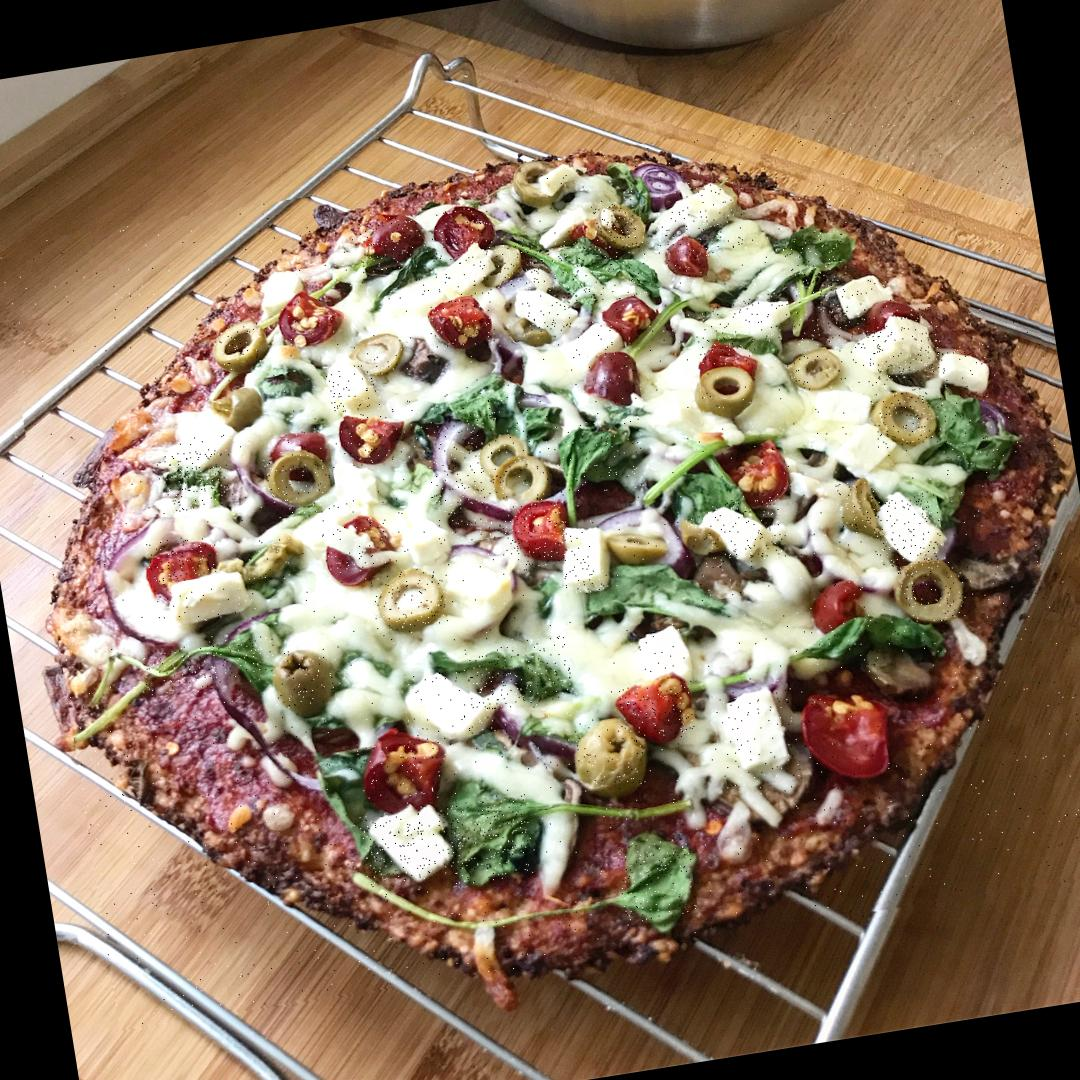Arugula: (515, 229, 653, 315), (799, 603, 948, 677), (407, 381, 536, 458), (579, 556, 704, 634), (780, 228, 860, 348), (543, 412, 650, 501), (142, 632, 280, 697), (930, 388, 1008, 477), (155, 444, 236, 514)
Basil: (440, 793, 538, 888), (463, 634, 575, 714), (614, 834, 698, 926)
Chicken: (712, 684, 802, 791), (647, 174, 747, 262), (844, 304, 947, 388), (358, 803, 459, 888), (400, 662, 498, 744), (702, 494, 790, 570), (867, 490, 946, 570), (159, 570, 257, 628), (698, 293, 794, 351), (410, 240, 503, 296), (556, 526, 620, 598), (552, 320, 628, 380), (632, 629, 694, 691), (938, 344, 1002, 396), (326, 363, 390, 415), (836, 275, 897, 324), (520, 286, 575, 337)
Olives: (566, 718, 652, 796), (263, 448, 339, 520), (369, 566, 450, 632), (897, 558, 969, 625), (268, 644, 336, 710), (870, 386, 938, 450), (588, 194, 647, 262), (585, 349, 643, 418), (514, 155, 580, 208), (213, 378, 273, 433), (697, 362, 759, 414), (348, 332, 410, 382), (472, 242, 532, 293), (788, 349, 849, 394), (240, 536, 296, 584), (834, 478, 882, 534), (497, 458, 558, 501), (692, 554, 744, 602), (478, 429, 527, 478), (212, 322, 262, 367), (679, 512, 724, 560), (613, 526, 666, 562)
Onion: (420, 410, 514, 546), (583, 497, 690, 574), (621, 154, 691, 219)
Pizza: (0, 86, 1080, 1031)
Tomatoes: (794, 690, 892, 794), (356, 733, 450, 804), (144, 532, 224, 607), (503, 494, 577, 574), (614, 675, 696, 742), (348, 212, 429, 276), (724, 442, 791, 508), (275, 288, 346, 349), (426, 290, 497, 351), (320, 517, 391, 577), (342, 408, 410, 468), (805, 579, 870, 639), (428, 205, 494, 255), (697, 330, 756, 385), (266, 426, 334, 468), (664, 233, 712, 281), (604, 297, 653, 338), (870, 298, 915, 336)
